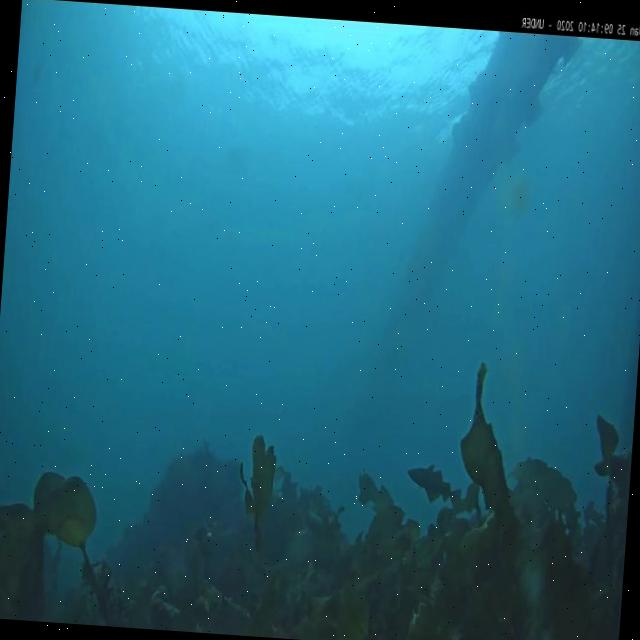fish: (405, 464, 463, 505)
